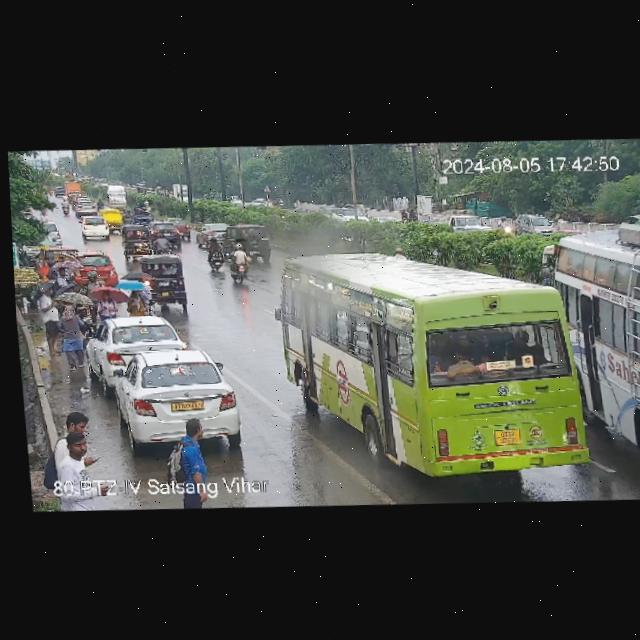bus: (272, 239, 587, 481), (536, 209, 640, 480)
car: (102, 347, 246, 449), (86, 314, 183, 377), (136, 253, 190, 308), (227, 221, 274, 258), (77, 252, 117, 286), (121, 224, 154, 256), (518, 211, 552, 237), (77, 216, 111, 240), (194, 221, 224, 245), (45, 220, 65, 248), (100, 209, 126, 229), (127, 206, 155, 223), (72, 198, 99, 215), (173, 214, 191, 239), (151, 221, 176, 236)
motorcycle: (224, 243, 255, 284), (204, 237, 229, 273), (154, 234, 169, 254), (496, 214, 511, 233), (61, 198, 70, 214)
person: (53, 404, 103, 460), (169, 415, 211, 479), (60, 305, 86, 368), (36, 287, 61, 352), (93, 279, 124, 322), (124, 278, 152, 312), (41, 252, 73, 280)
truck: (427, 206, 480, 226)
